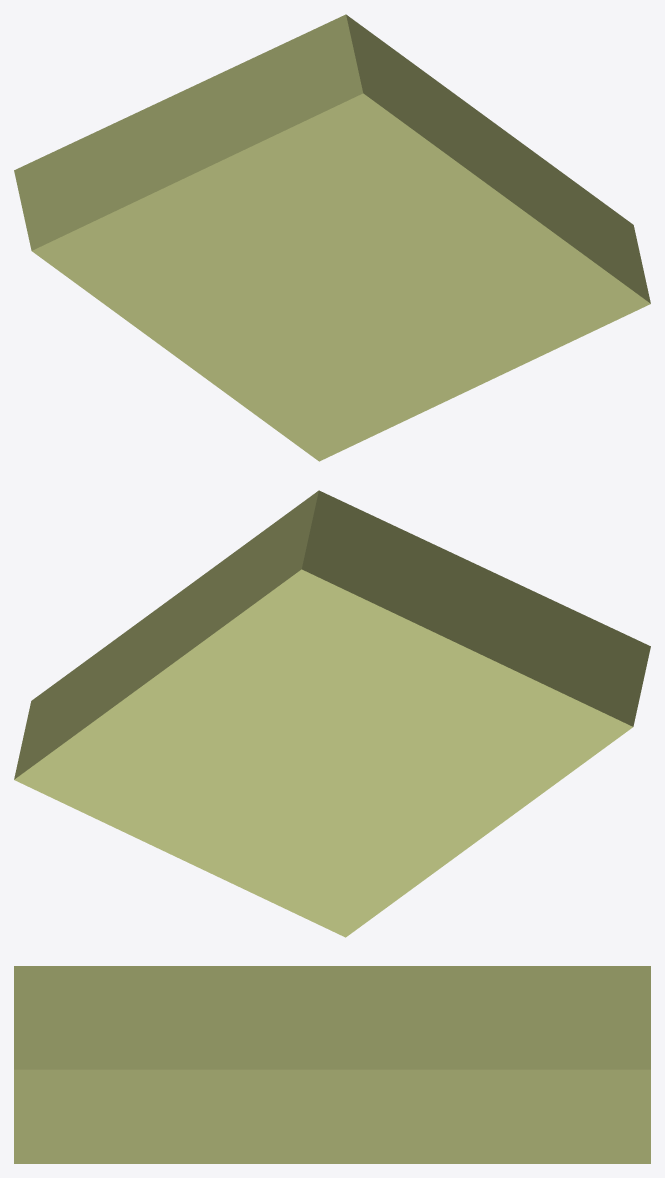
3 renders of one model, top to bottom at view 1: azimuth 30°, elevation 25°; view 2: azimuth 150°, elevation 25°; view 3: azimuth 270°, elevation 25°, orthographic. The views are drawn at different scales.
Parts seen in each view (by area): view 1: 0_1_3_2_2_2_1_2_1_2_1; view 2: 0_1_3_2_2_2_1_2_1_2_1; view 3: 0_1_3_2_2_2_1_2_1_2_1.
Part boxes in pixels (left/top/right/bottom): 0_1_3_2_2_2_1_2_1_2_1: left=14, top=14, right=650, bottom=461; 0_1_3_2_2_2_1_2_1_2_1: left=14, top=490, right=650, bottom=937; 0_1_3_2_2_2_1_2_1_2_1: left=14, top=966, right=650, bottom=1163.
Bounding box in the file's own units: 4.21 × 1.84 × 6.
